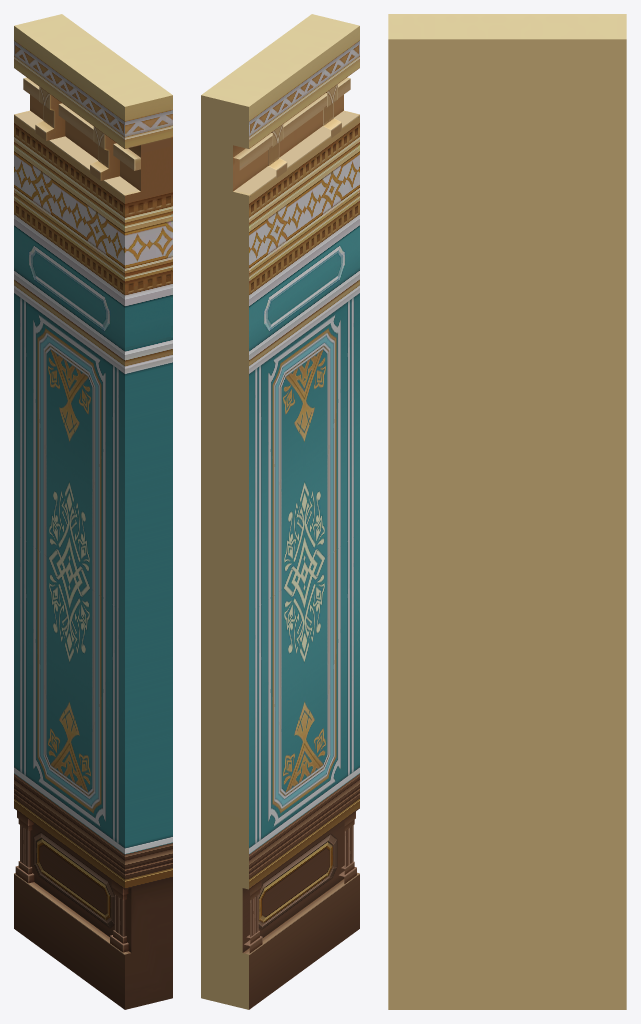
File: my_trinityclassroom_01_wall_right.glb
3 renders of one model, left to right at view 1: azimuth 30°, elevation 25°; view 2: azimuth 150°, elevation 25°; view 3: azimuth 270°, elevation 25°, orthographic. The views are drawn at different scales.
Visible parts, largest first — view 1: my_trinityclassroom_01_wall_right; view 2: my_trinityclassroom_01_wall_right; view 3: my_trinityclassroom_01_wall_right.
Part boxes in pixels (x1,y1,x2,y2): my_trinityclassroom_01_wall_right: (14,14,172,1009); my_trinityclassroom_01_wall_right: (201,14,359,1009); my_trinityclassroom_01_wall_right: (388,14,626,1009).
Bounding box in the file's own units: 0.00319 × 0.0539 × 0.012.
Materials: 1 (1 with a texture image).
